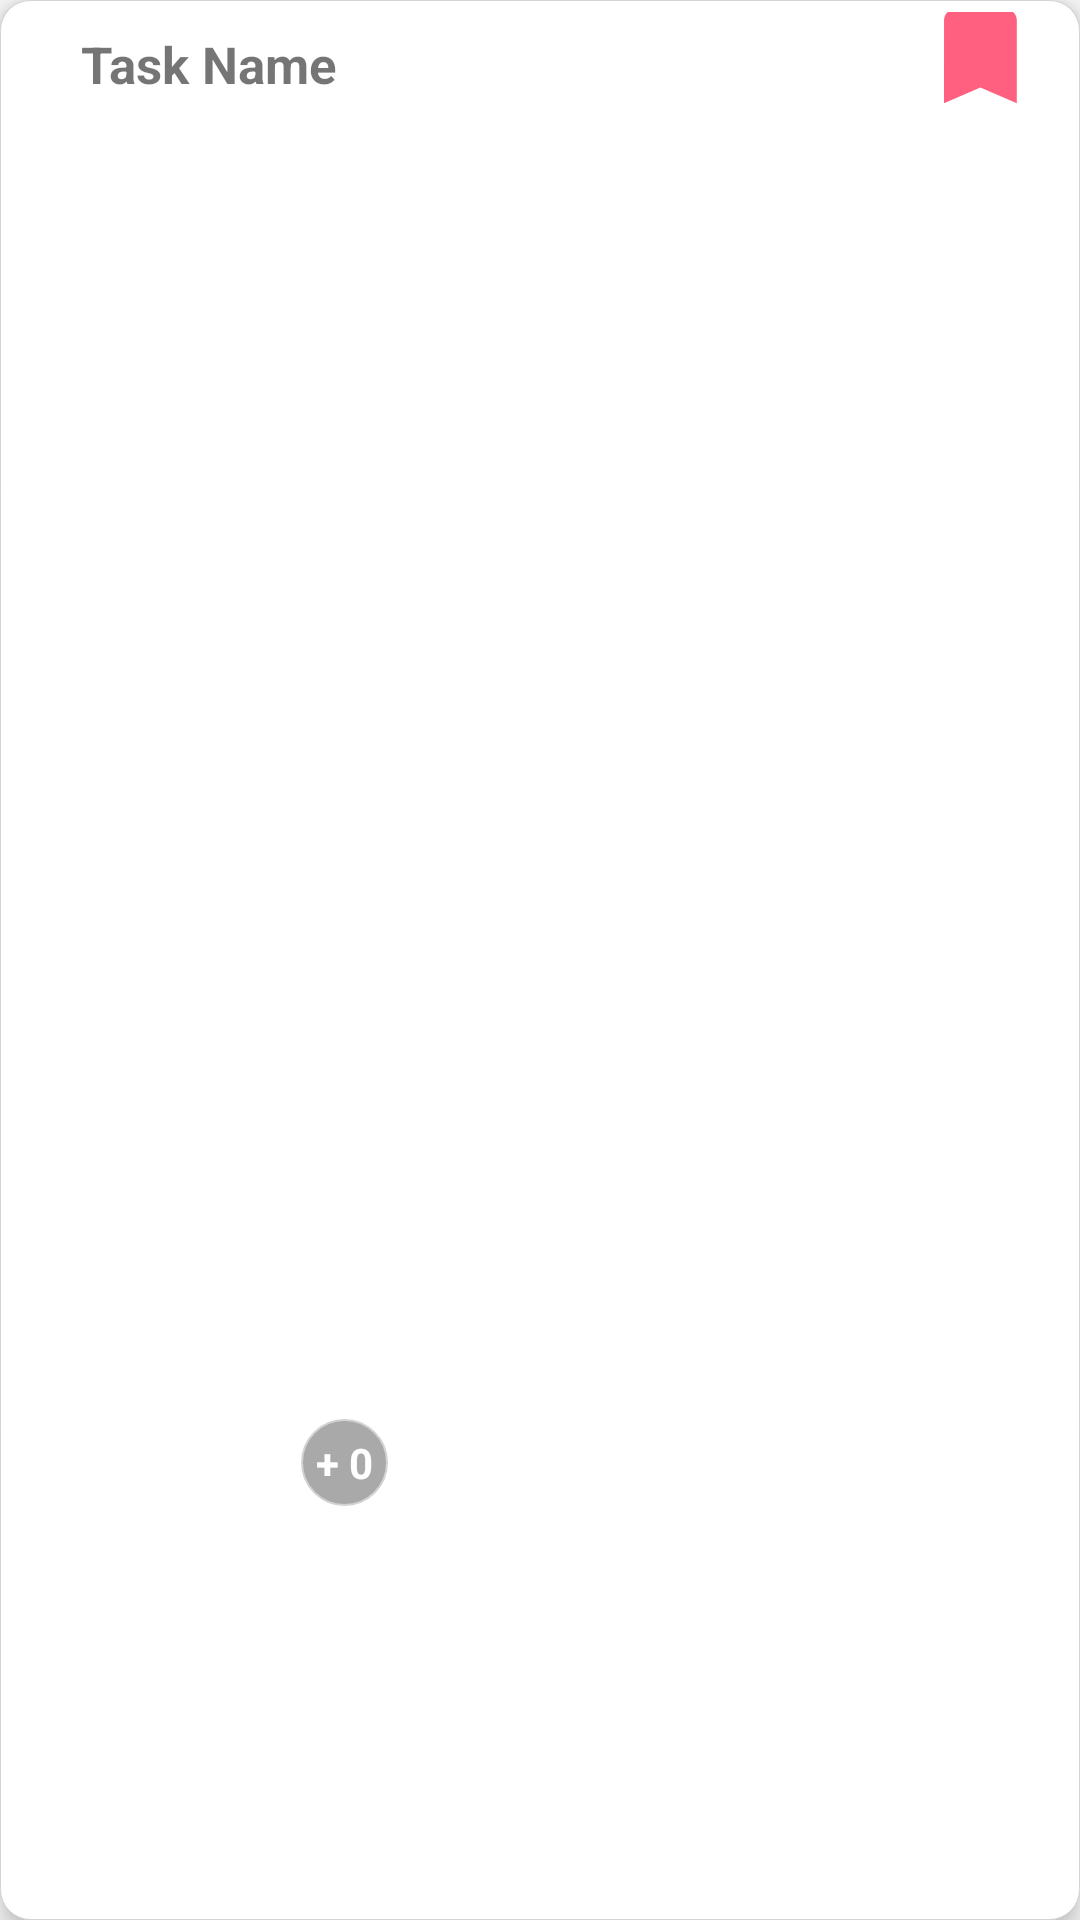

Locate icon controls on the screen. Image size 1080px x 1920px, boxes as {"x1": x1, "y1": y1, "x2": x2, "y2": y2}.
bookmark: {"x1": 944, "y1": 12, "x2": 1017, "y2": 103}
